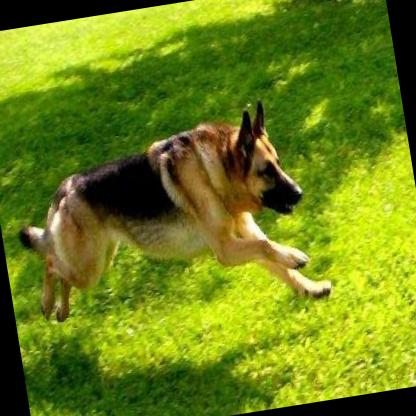German_shepherd: (0, 90, 334, 342)
